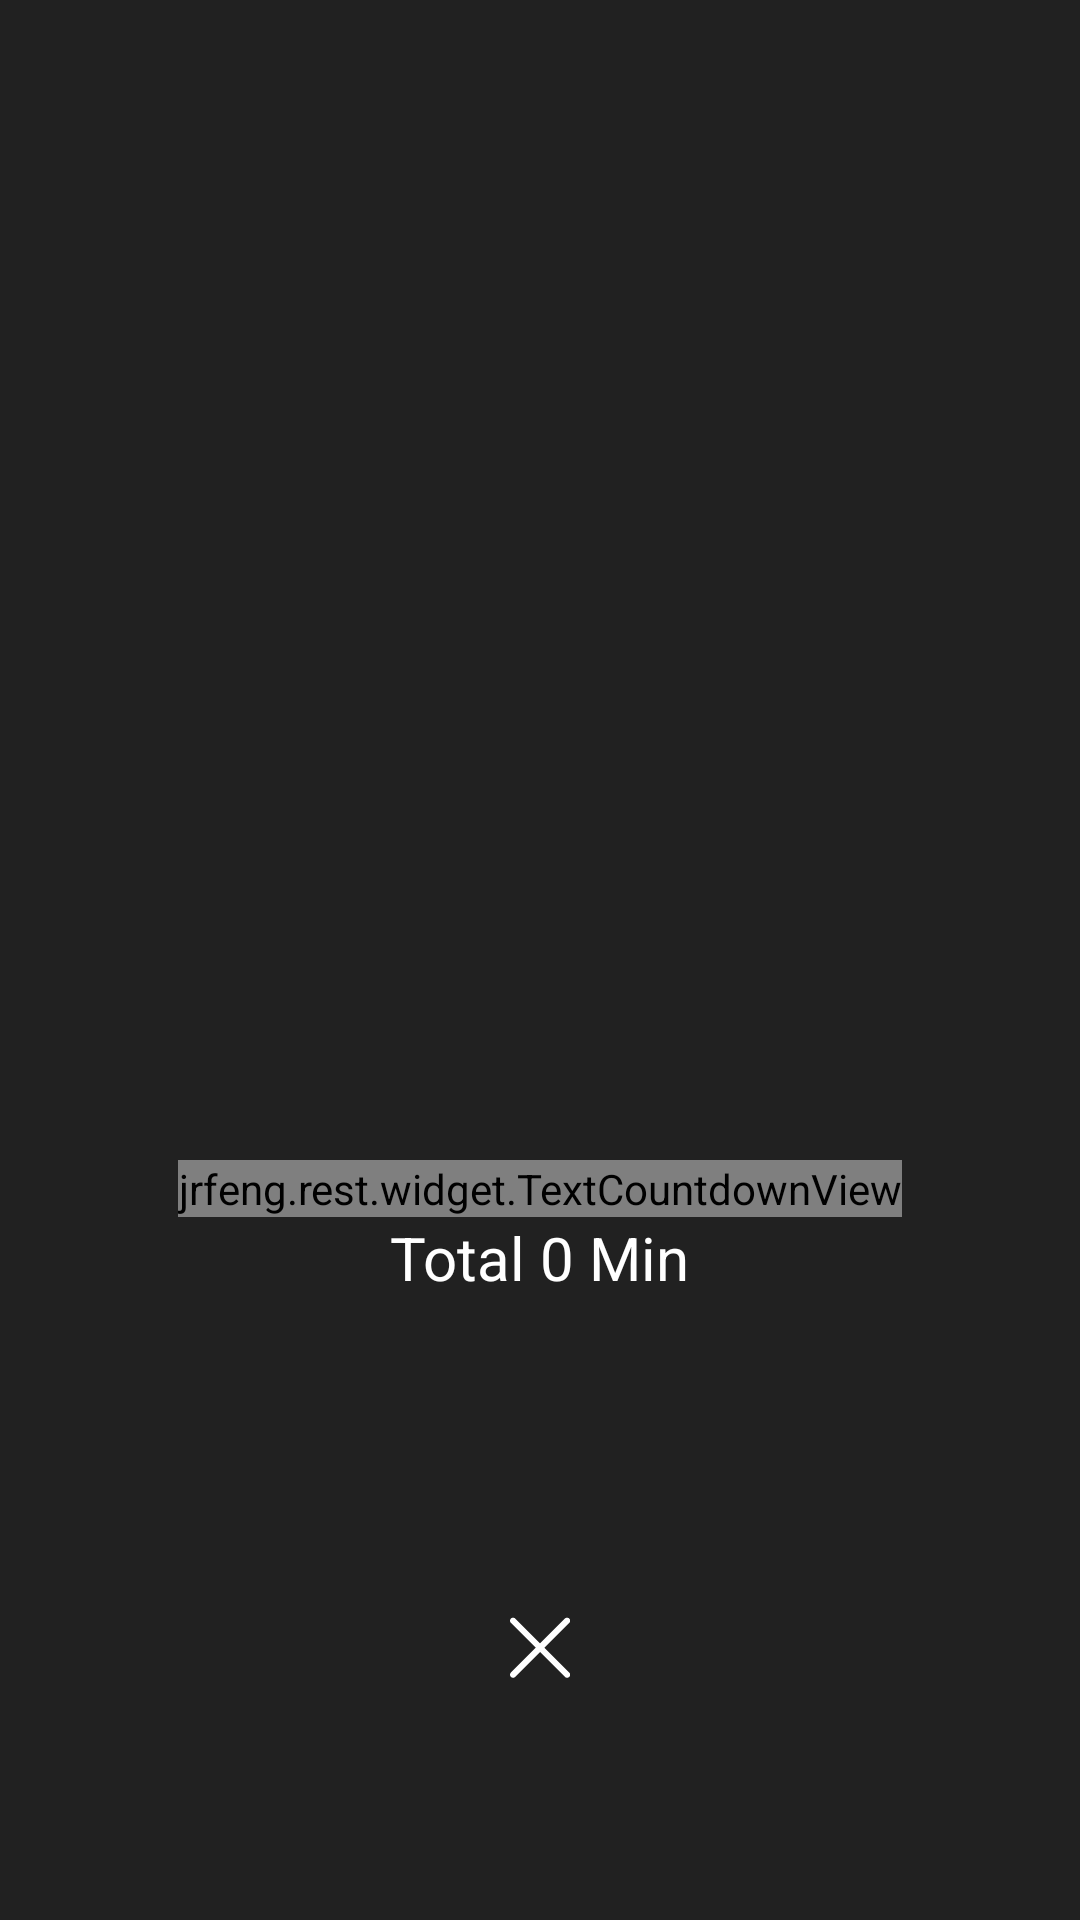

Icon click points for this 1080px x 1920px phone screenshot, format point (x, y):
Cancel: point (540, 1647)
